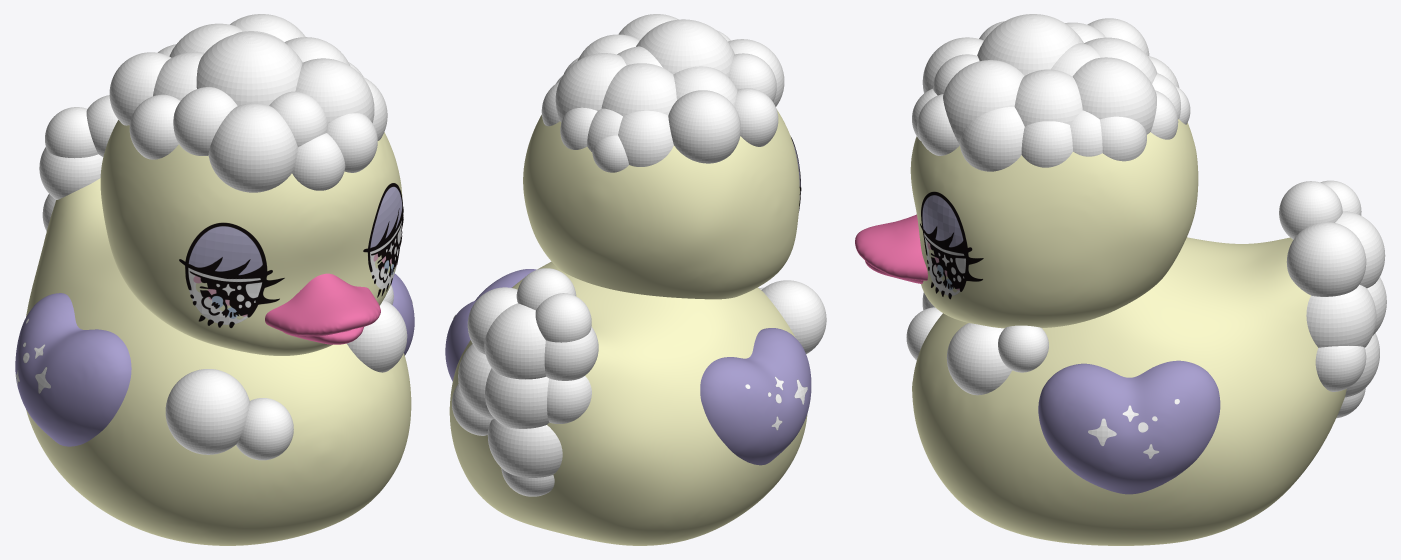
The picture shows the model from 3 angles, left to right: view 1: azimuth 30°, elevation 25°; view 2: azimuth 150°, elevation 25°; view 3: azimuth 270°, elevation 25°; orthographic projection. The views are drawn at different scales.
Visible parts, largest first — view 1: Karada.001, Fix, Te, 平面.001, 球.004, 球.001, 球.034, Kuchi, 球.002, 球.005, 球.035, 球.036 (+14 smaller); view 2: Karada.001, Fix, Te, 球.007, 球.001, 球.023, 球.031, 球.009, 球.028, 球.010, 球.034, 球.017 (+20 smaller); view 3: Karada.001, Fix, Te.001, 球.025, 球.010, 球.001, 平面.001, 球.002, 球.029, 球.036, Kuchi, 球.014 (+19 smaller).
Boxes of the visible parts, bbox=[...] form: Karada.001: bbox=[26, 178, 411, 545]; Fix: bbox=[100, 120, 402, 355]; Te: bbox=[15, 293, 131, 446]; 平面.001: bbox=[179, 183, 403, 327]; 球.004: bbox=[208, 103, 297, 192]; 球.001: bbox=[196, 32, 302, 105]; 球.034: bbox=[165, 369, 249, 454]; Kuchi: bbox=[265, 273, 380, 344]; 球.002: bbox=[295, 58, 374, 123]; 球.005: bbox=[173, 87, 237, 155]; 球.035: bbox=[236, 398, 293, 460]; 球.036: bbox=[346, 300, 407, 372]; Karada.001: bbox=[449, 261, 807, 545]; Fix: bbox=[523, 110, 799, 299]; Te: bbox=[700, 328, 811, 465]; 球.007: bbox=[668, 90, 740, 163]; 球.001: bbox=[636, 19, 734, 76]; 球.023: bbox=[484, 303, 546, 379]; 球.031: bbox=[487, 419, 562, 477]; 球.009: bbox=[601, 63, 676, 116]; 球.028: bbox=[485, 368, 549, 428]; 球.010: bbox=[555, 53, 626, 122]; 球.034: bbox=[761, 280, 826, 353]; 球.017: bbox=[618, 110, 673, 166]; Karada.001: bbox=[912, 237, 1346, 545]; Fix: bbox=[910, 119, 1198, 328]; Te.001: bbox=[1038, 360, 1220, 494]; 球.025: bbox=[1286, 222, 1366, 296]; 球.010: bbox=[1072, 57, 1156, 134]; 球.001: bbox=[977, 14, 1083, 75]; 平面.001: bbox=[920, 191, 983, 299]; 球.002: bbox=[943, 60, 1024, 145]; 球.029: bbox=[1306, 284, 1376, 347]; 球.036: bbox=[946, 323, 1011, 395]; Kuchi: bbox=[855, 214, 927, 283]; 球.014: bbox=[959, 107, 1024, 171].
Bounding box in the file's own units: 50.64 × 63.94 × 65.19.
Materials: 7 (3 with a texture image).
